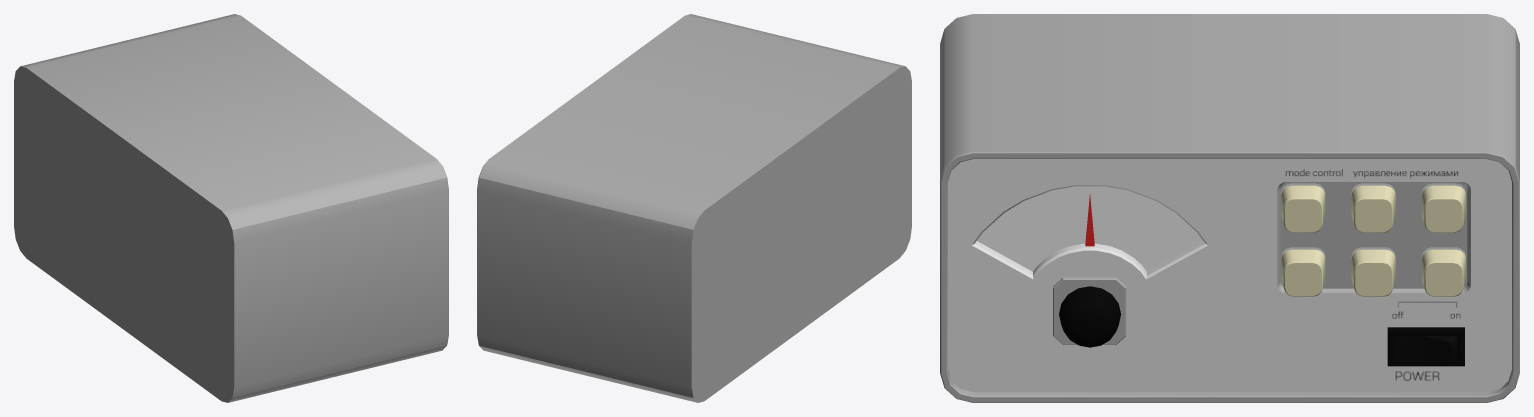
File: radio-test.fbx
3 views of the same model, side by side, from view 1: azimuth 30°, elevation 25°; view 2: azimuth 150°, elevation 25°; view 3: azimuth 270°, elevation 25° (orthographic). The views are drawn at different scales.
Parts seen in each view (by area): view 1: Radio.002; view 2: Radio.002; view 3: Radio.002.
Part boxes in pixels (left/top/right/bottom): Radio.002: left=14, top=14, right=448, bottom=402; Radio.002: left=477, top=14, right=911, bottom=402; Radio.002: left=940, top=14, right=1519, bottom=402.
Size of the model in its own units: 43.63 by 33.86 by 70.86.
8 materials, 1 textured.
